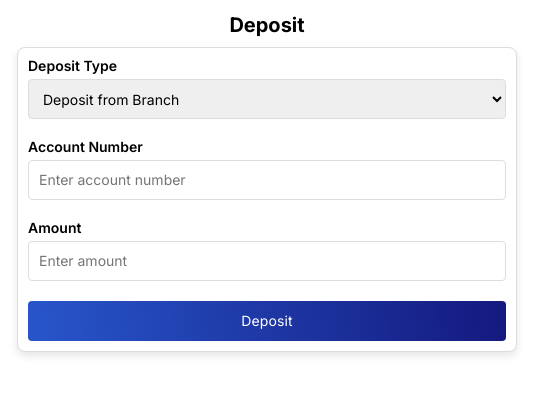
<DepositForm /> › Displays validation errors when present
The image size is (535, 416).
Click the button "Deposit". click: (267, 321)
box: x1=28 y1=301 x2=506 y2=341
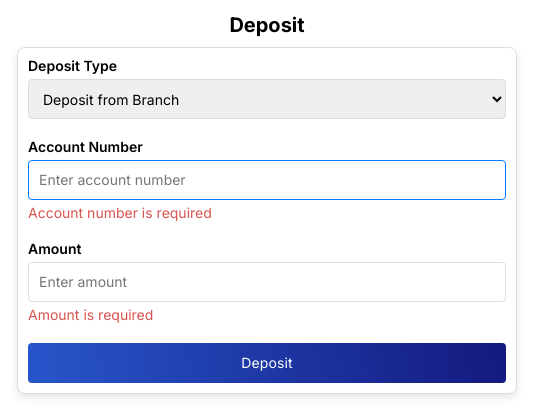
Now the text "Account number is required" is shown, box x1=28 y1=204 x2=212 y2=221
Now the text "Amount is required" is shown, box x1=28 y1=306 x2=153 y2=323
Type "123" into the field labelled "Account Number". click: (267, 180)
box: x1=28 y1=160 x2=506 y2=200
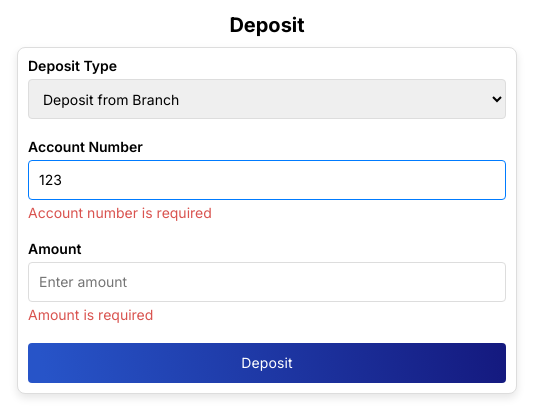
Type "-100" into the number field labelled "Amount". click: (267, 282)
box: x1=28 y1=262 x2=506 y2=302
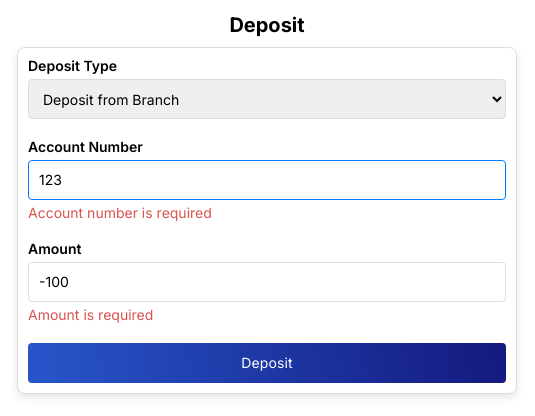
Click the button "Deposit". click: (267, 363)
box: x1=28 y1=343 x2=506 y2=383
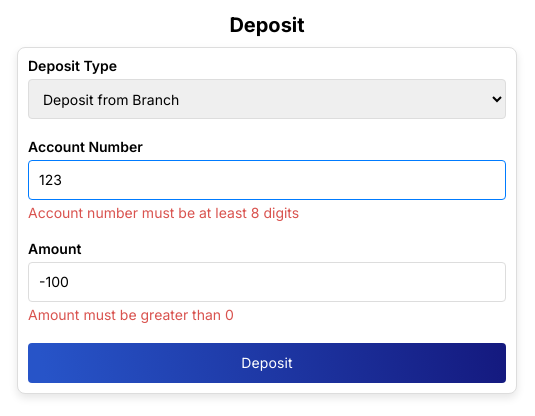
Now the text "Account number must be at least 8 digits" is shown, box x1=28 y1=204 x2=299 y2=221
Now the text "Amount must be greater than 0" is shown, box x1=28 y1=306 x2=234 y2=323
